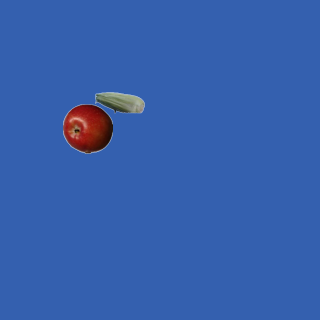Apple Braeburn: (62, 103, 112, 153)
Corn Husk: (94, 77, 144, 127)
